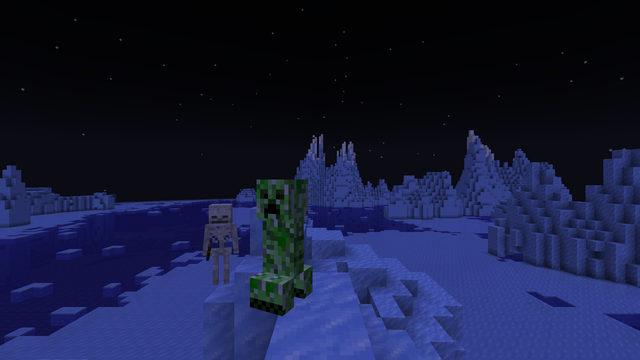creepers: (255, 173, 305, 309)
squelettes: (203, 203, 235, 287)
